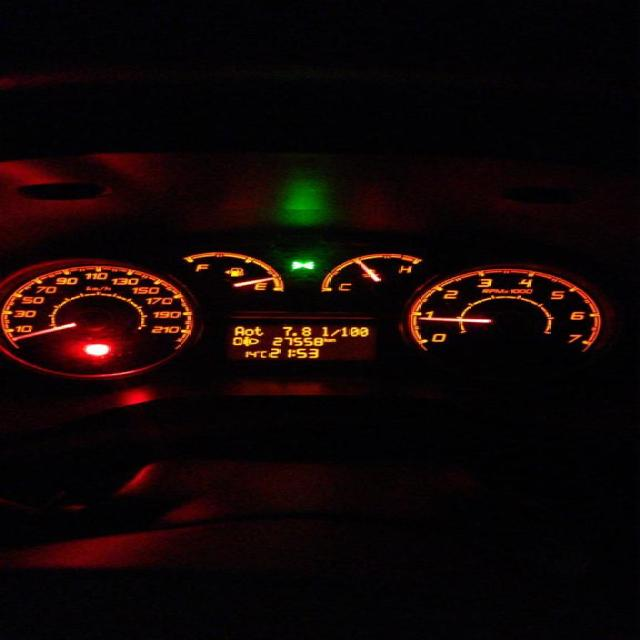odometer: (221, 322, 378, 362)
